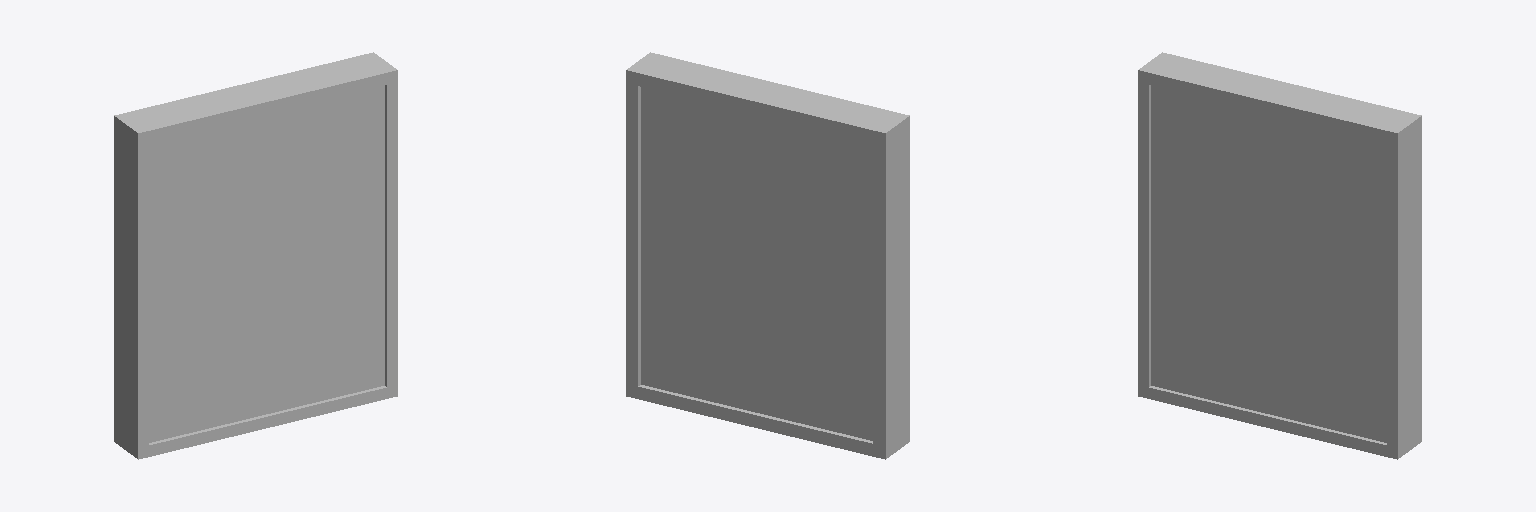
File: 5x6Frame_01.obj
3 renders of one model, left to right at view 1: azimuth 30°, elevation 25°; view 2: azimuth 150°, elevation 25°; view 3: azimuth 330°, elevation 25°, orthographic.
Visible parts, largest first — view 1: 5x6_frame_01_glass_Cube.010; view 2: 5x6_frame_01_glass_Cube.010; view 3: 5x6_frame_01_glass_Cube.010.
Part boxes in pixels (bbox=[...]): 5x6_frame_01_glass_Cube.010: bbox=[114, 52, 397, 459]; 5x6_frame_01_glass_Cube.010: bbox=[626, 52, 909, 459]; 5x6_frame_01_glass_Cube.010: bbox=[1138, 52, 1421, 459].
Bounding box in the file's own units: 0.1269 × 0.1524 × 0.0207.